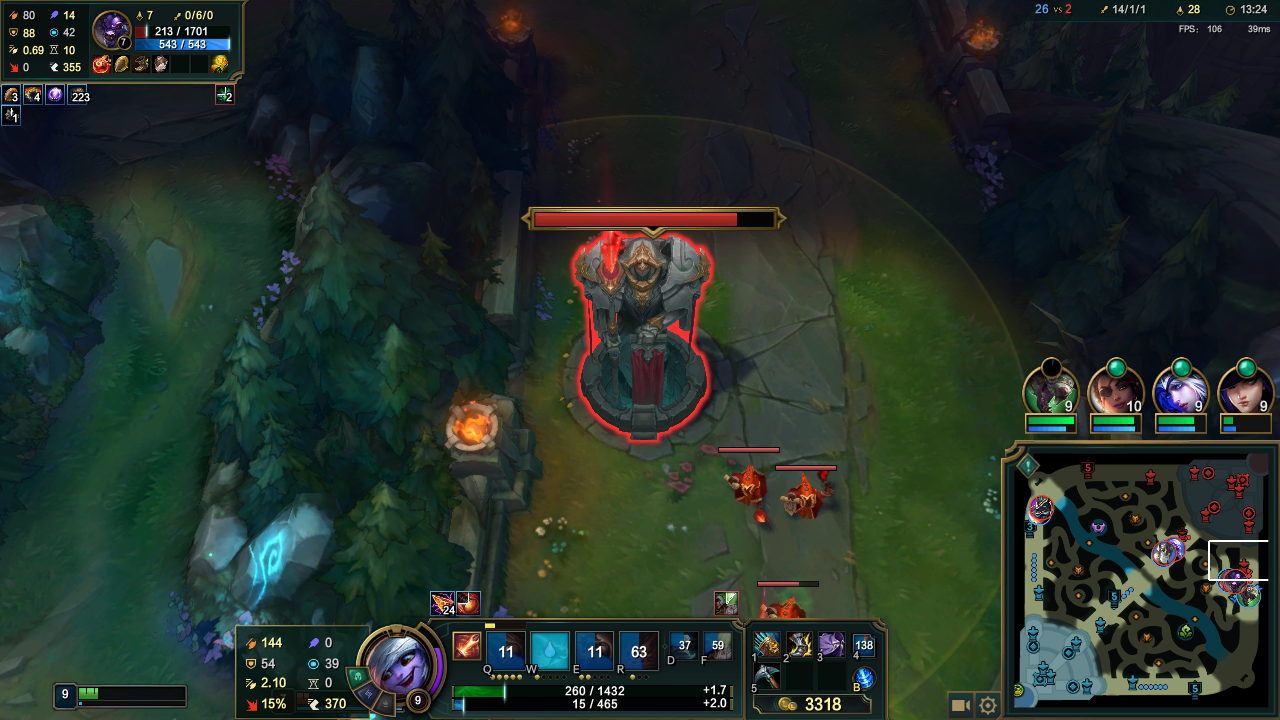DFFYT: (550, 198, 733, 431)
DFXB: (726, 459, 775, 519), (782, 471, 838, 520)
Yita: (1181, 676, 1210, 706)
